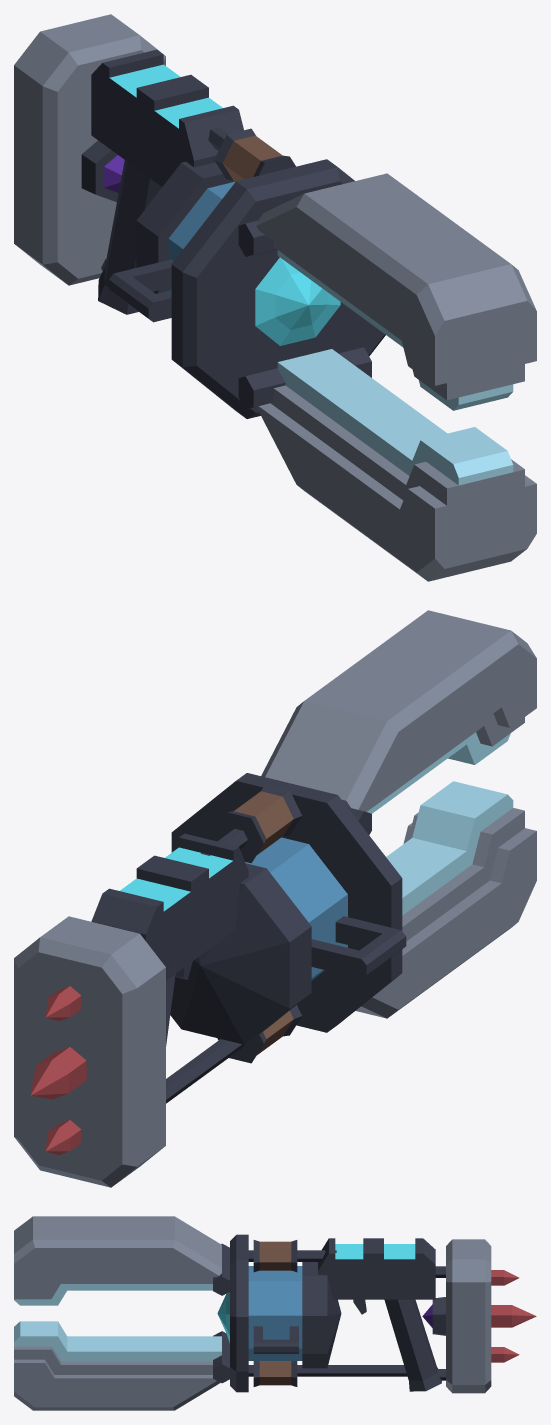
The model's file is gravity-manipulator-3bf707.glb.
3 renders of one model, top to bottom at view 1: azimuth 30°, elevation 25°; view 2: azimuth 150°, elevation 25°; view 3: azimuth 270°, elevation 25°, orthographic. The views are drawn at different scales.
Parts seen in each view (by area): view 1: body-metal, jaw-upper-metal, jaw-lower-metal, jaw-lower-crystal, body-crystal, jaw-upper-crystal; view 2: body-metal, jaw-upper-metal, jaw-lower-metal, body-crystal, jaw-lower-crystal, jaw-upper-crystal; view 3: body-metal, jaw-upper-metal, jaw-lower-metal, body-crystal, jaw-lower-crystal, jaw-upper-crystal.
Boxes of the visible parts, left/top/right/bottom form: body-metal: left=14, top=14, right=385, bottom=418; jaw-upper-metal: left=256, top=173, right=536, bottom=400; jaw-lower-metal: left=256, top=385, right=536, bottom=581; jaw-lower-crystal: left=277, top=349, right=513, bottom=485; body-crystal: left=104, top=64, right=340, bottom=345; jaw-upper-crystal: left=277, top=250, right=513, bottom=410; body-metal: left=14, top=773, right=406, bottom=1187; jaw-upper-metal: left=261, top=610, right=536, bottom=811; jaw-lower-metal: left=355, top=808, right=536, bottom=1018; body-crystal: left=30, top=837, right=347, bottom=1154; jaw-lower-crystal: left=386, top=781, right=513, bottom=915; jaw-upper-crystal: left=367, top=732, right=510, bottom=813; body-metal: left=213, top=1234, right=491, bottom=1393; jaw-upper-metal: left=14, top=1216, right=221, bottom=1299; jaw-lower-metal: left=14, top=1346, right=220, bottom=1410; body-crystal: left=217, top=1244, right=536, bottom=1362; jaw-lower-crystal: left=14, top=1321, right=221, bottom=1361; jaw-upper-crystal: left=14, top=1284, right=212, bottom=1305.
Size of the model in its own units: 0.2174 by 0.24 by 0.666.
